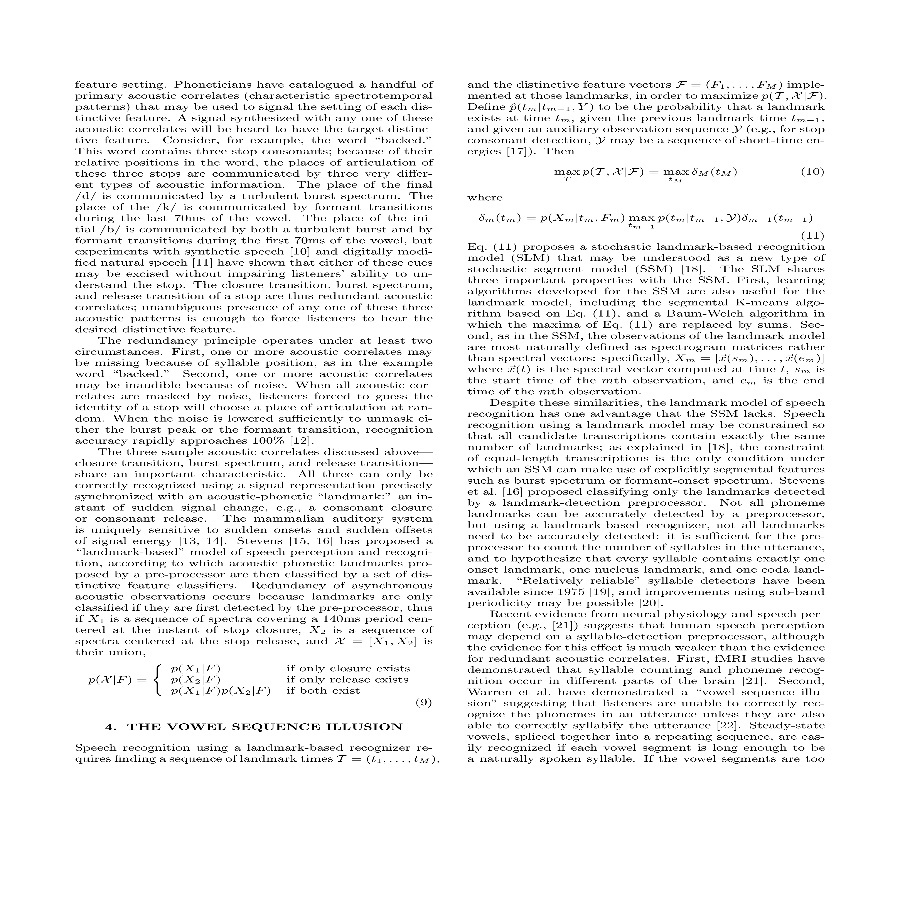eq: (87, 660, 411, 702), (476, 207, 816, 229), (549, 161, 741, 184)
